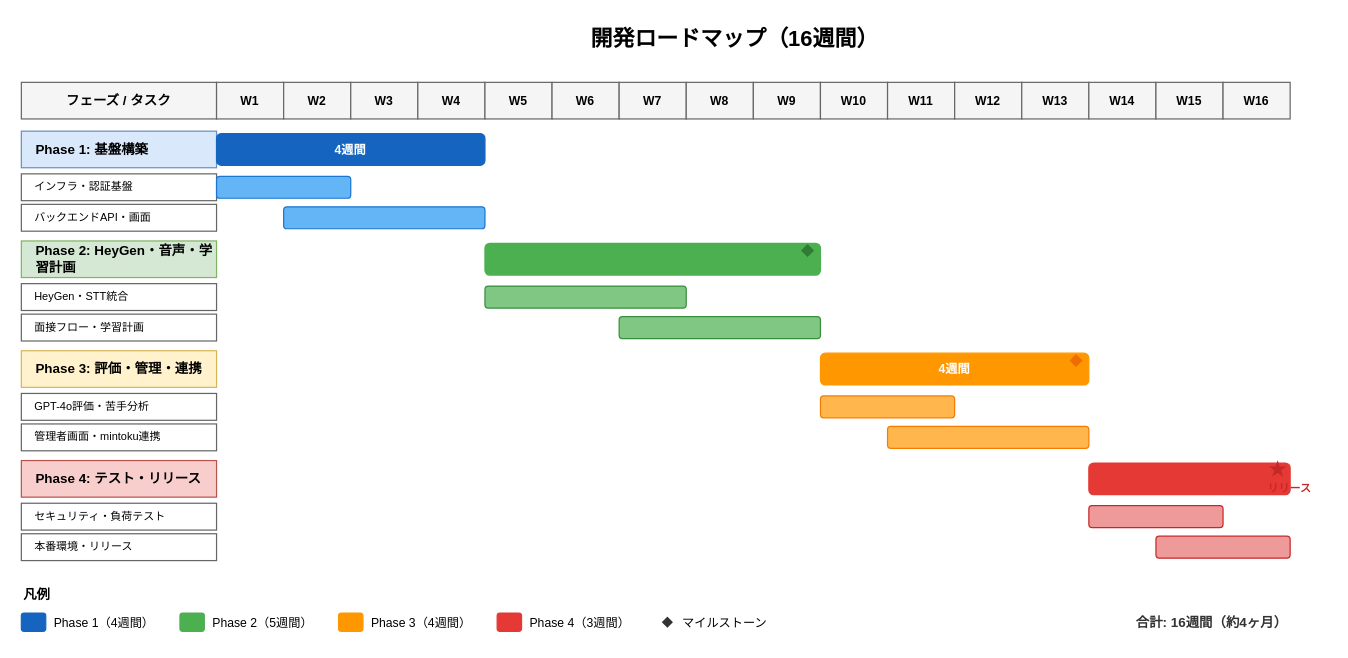
The diagram is 1348 pixels wide and 658 high, and some of its shapes have lost their labels. The shapes that lost their labels are listed below. From the top down, each one's box as (x1, y1, x2, y2) in pixels, then its label:
(484, 242, 820, 275): 5週間
(1088, 462, 1290, 495): 3週間
